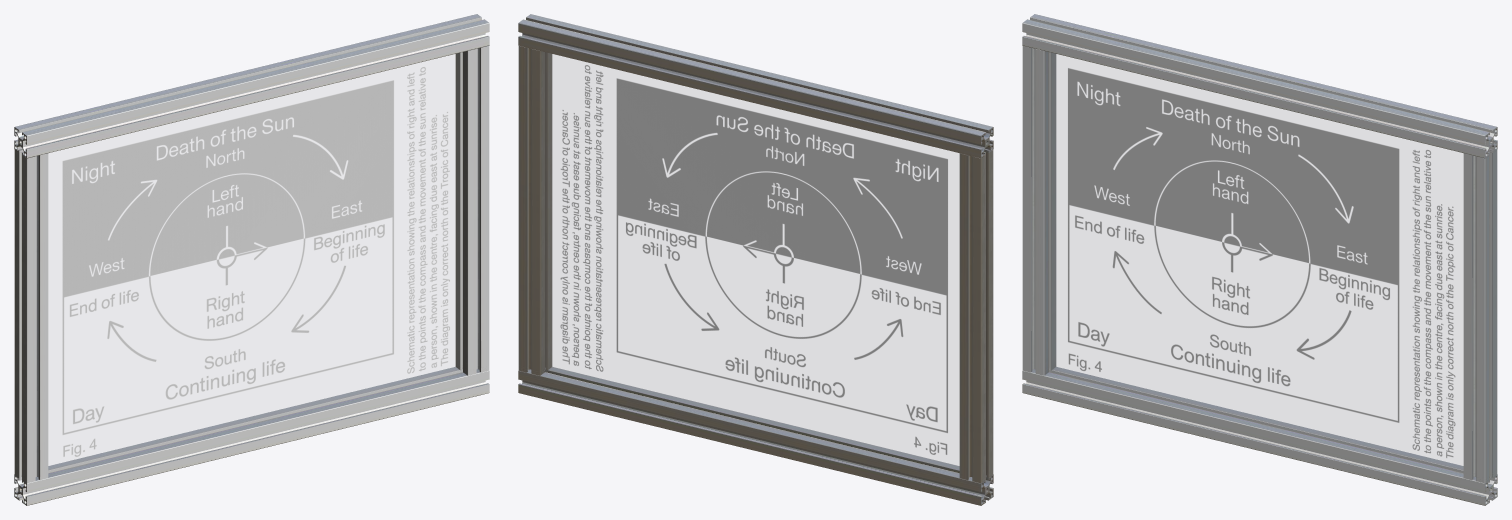
3 views of the same model, side by side, from view 1: azimuth 30°, elevation 25°; view 2: azimuth 150°, elevation 25°; view 3: azimuth 330°, elevation 25° (orthographic).
Visible parts, largest first — view 1: Dexter & Sinister_2; view 2: Dexter & Sinister_2; view 3: Dexter & Sinister_2.
Part boxes in pixels (x1=…): Dexter & Sinister_2: x1=14, y1=14, x2=489, y2=505; Dexter & Sinister_2: x1=518, y1=14, x2=993, y2=505; Dexter & Sinister_2: x1=1022, y1=14, x2=1497, y2=505.
Bounding box in the file's own units: 0.85 × 0.65 × 0.04.
3 materials, 2 textured.
